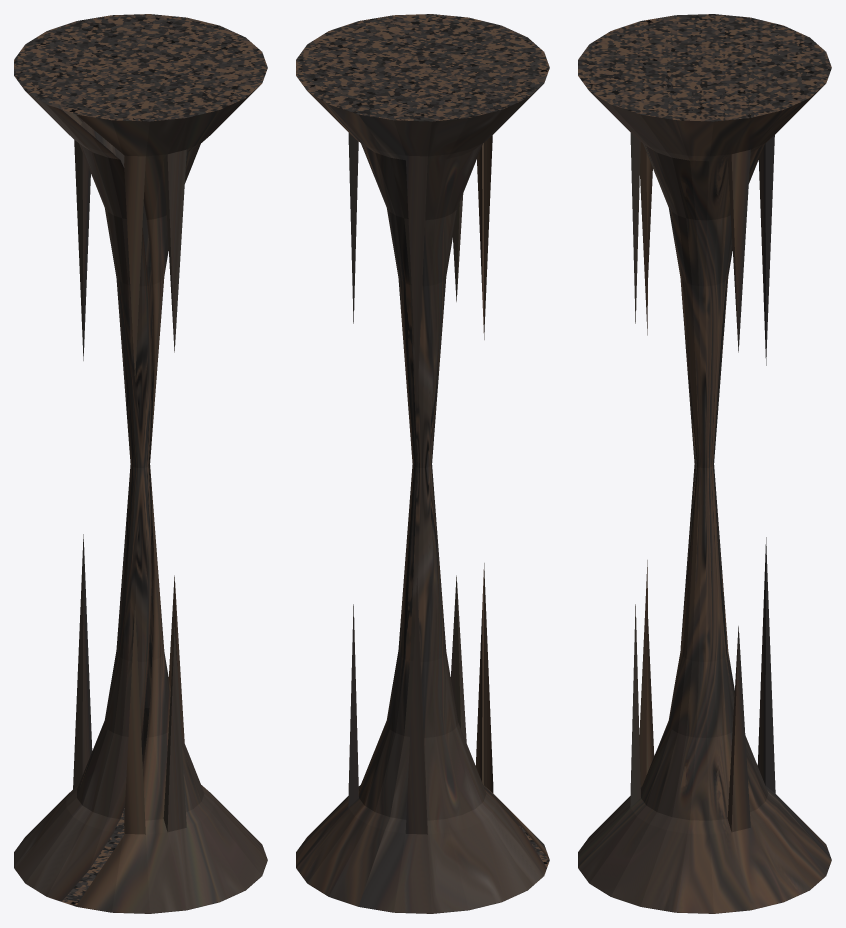
The model's file is stagmight colom.obj.
3 renders of one model, left to right at view 1: azimuth 30°, elevation 25°; view 2: azimuth 150°, elevation 25°; view 3: azimuth 270°, elevation 25°, orthographic.
Parts seen in each view (by area): view 1: Cylinder; view 2: Cylinder; view 3: Cylinder.
Boxes of the visible parts, box(x1,y1,x2,y2) form: Cylinder: box(14, 14, 267, 913); Cylinder: box(296, 14, 549, 913); Cylinder: box(578, 14, 831, 913).
Size of the model in its own units: 9.3 by 31.95 by 9.28.
1 material, 1 textured.
